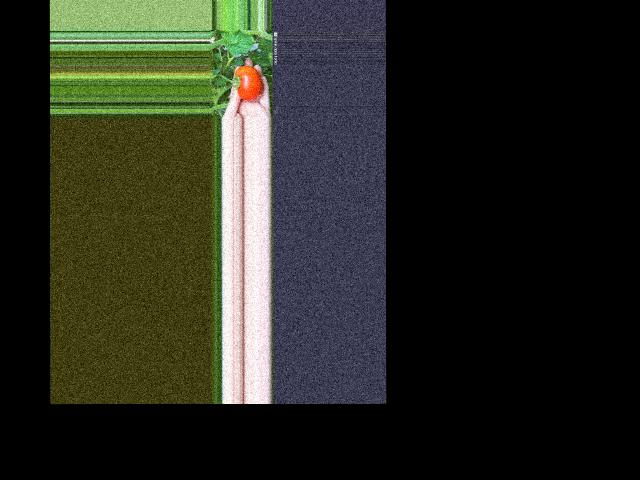tomato: (235, 66, 262, 101)
